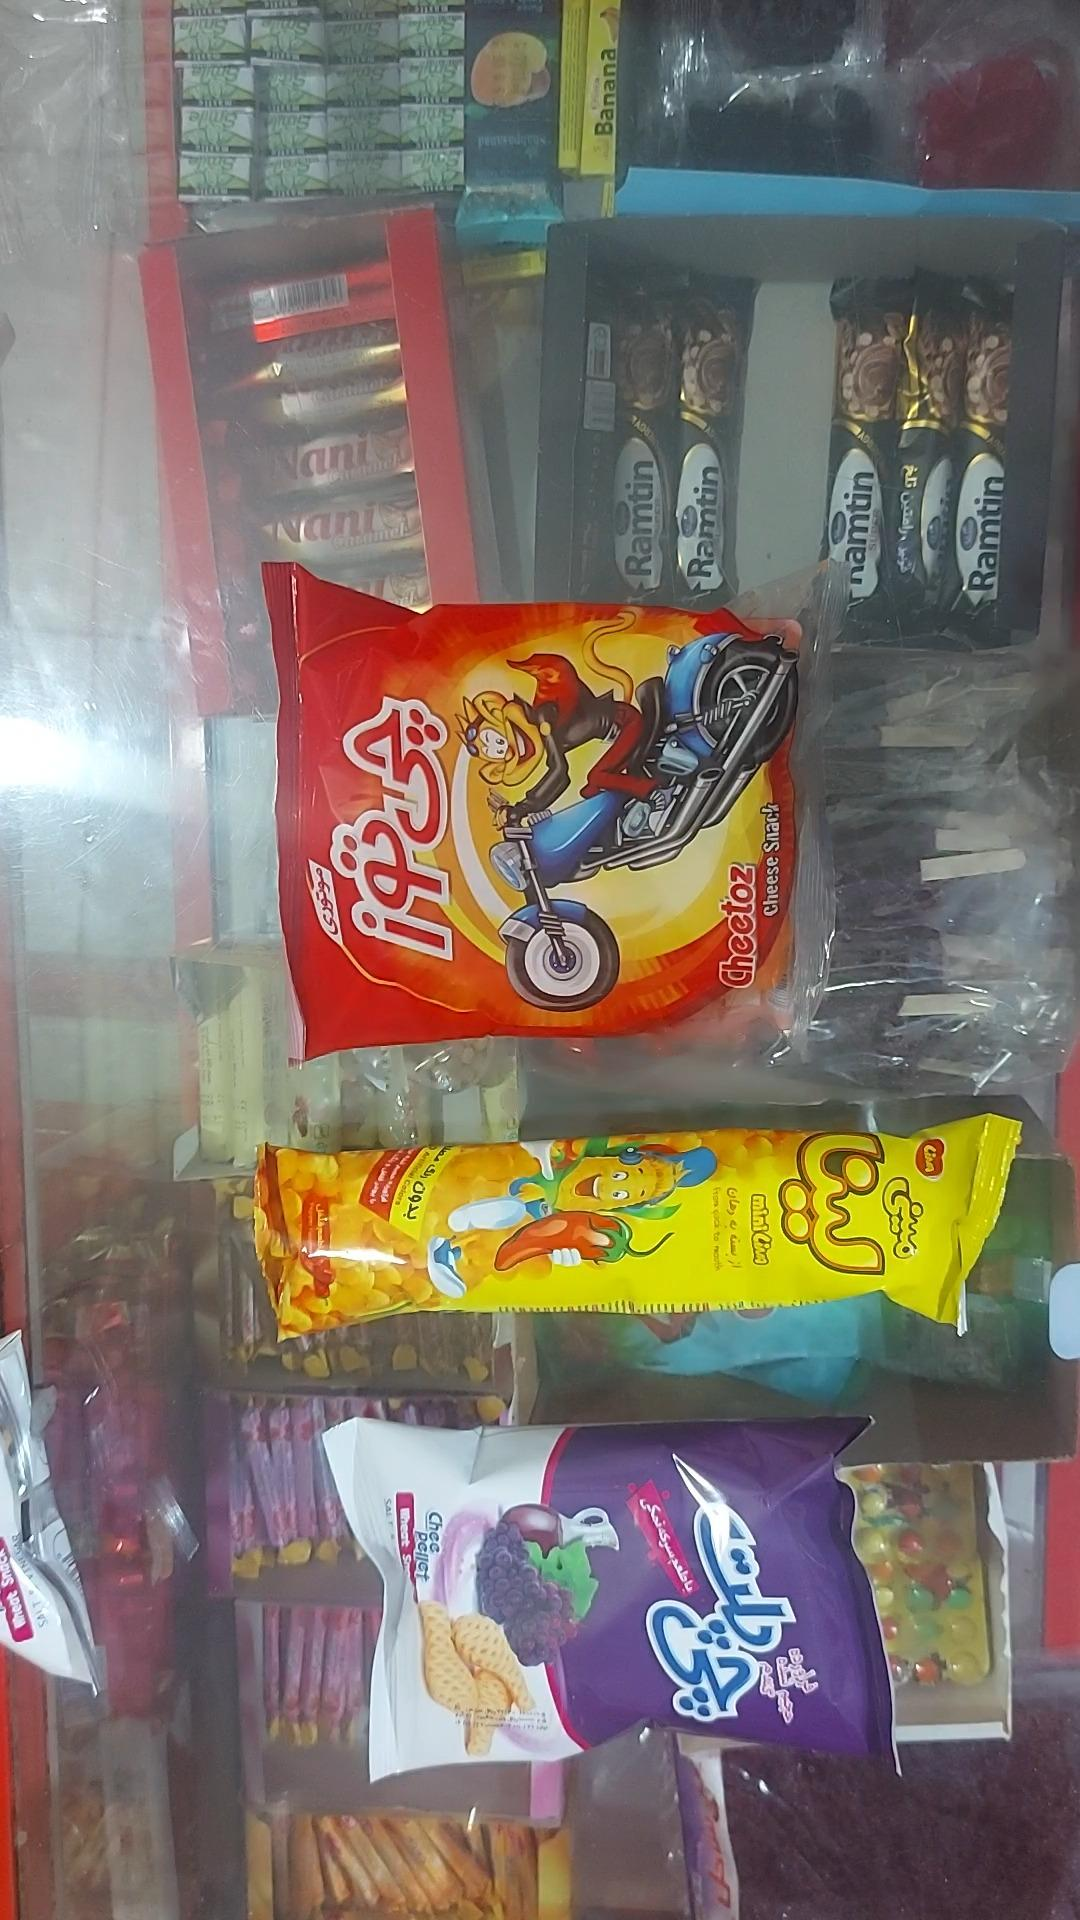Chee pellet vinegar: (323, 1419, 895, 1782)
Cheetoz snack 30g: (262, 564, 843, 1059)
Mini Lina: (256, 1116, 1018, 1336)
